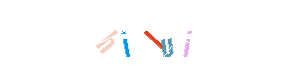1: (107, 0, 187, 80)
H: (86, 0, 166, 80)
I: (95, 0, 175, 80), (121, 0, 201, 80)
V: (113, 0, 193, 80)
